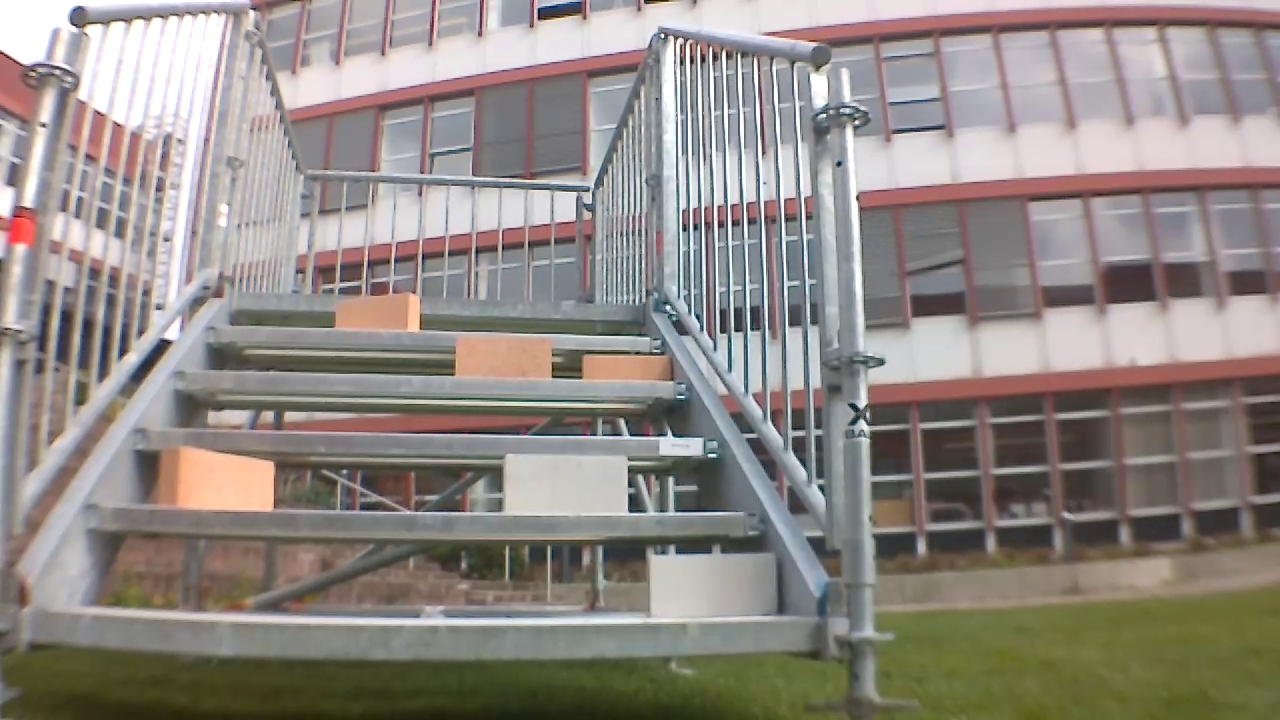brick: (645, 554, 777, 616), (503, 455, 625, 514), (160, 447, 273, 510), (456, 336, 552, 379), (335, 293, 420, 329), (583, 354, 671, 381)
edge: (29, 609, 822, 660), (86, 505, 764, 539), (135, 428, 722, 456), (172, 369, 690, 400), (232, 291, 644, 321), (207, 325, 662, 350)
stairs: (3, 3, 894, 719)
steps: (24, 286, 826, 674)
